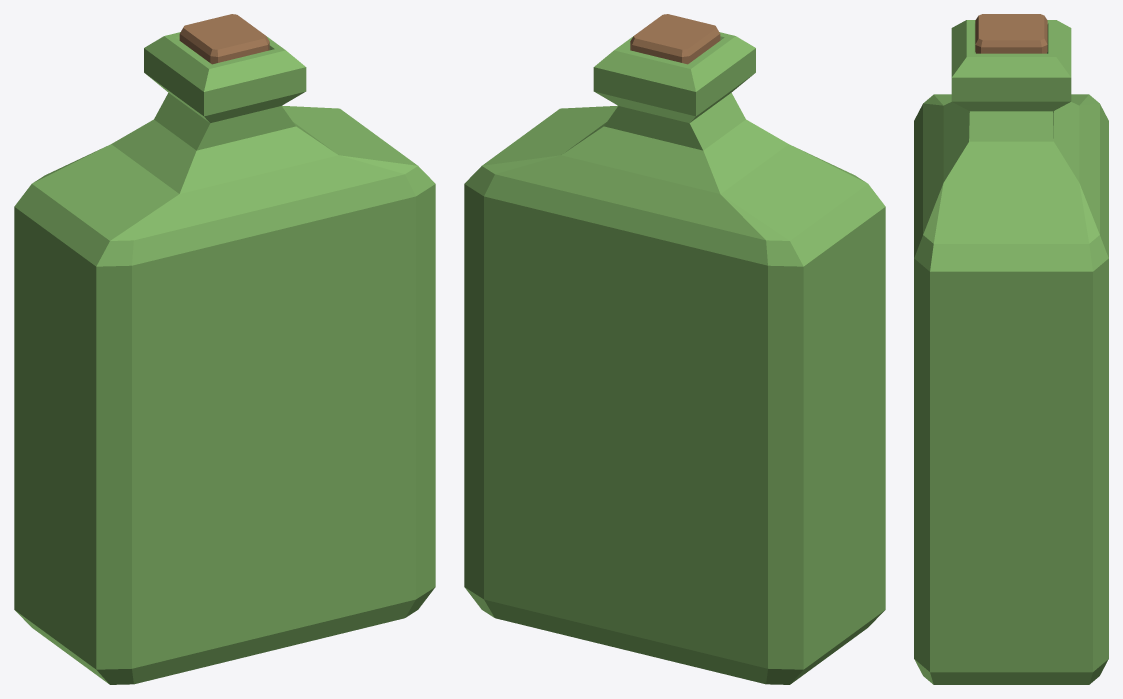
The model's file is Green_Potion_5.fbx.
The picture shows the model from 3 angles, left to right: view 1: azimuth 30°, elevation 25°; view 2: azimuth 150°, elevation 25°; view 3: azimuth 270°, elevation 25°; orthographic projection.
Parts seen in each view (by area): view 1: Green_Potion_5; view 2: Green_Potion_5; view 3: Green_Potion_5.
Boxes of the visible parts, x1,y1,x2,y2 form: Green_Potion_5: [14, 14, 435, 684]; Green_Potion_5: [464, 14, 885, 684]; Green_Potion_5: [914, 14, 1108, 684].
Bounding box in the file's own units: 25.6 × 42.3 × 12.8.
